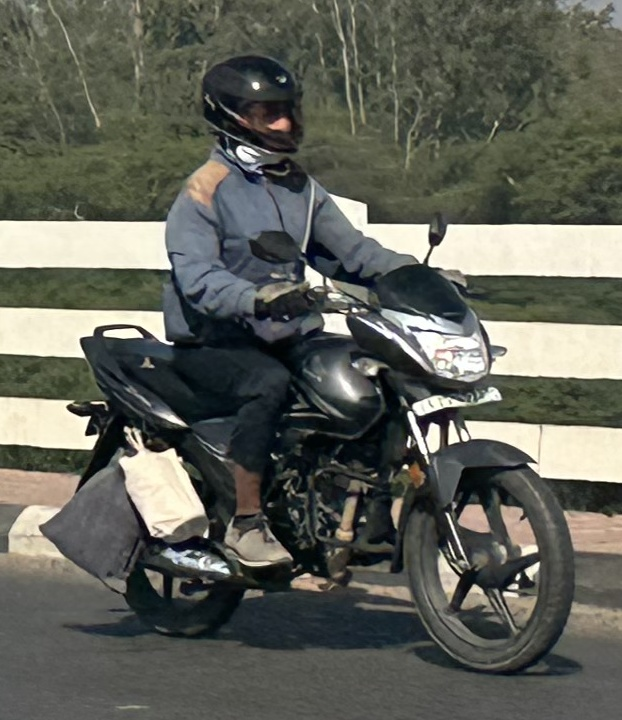BikeWithRider: (31, 43, 585, 680)
Helmet: (187, 46, 319, 172)
